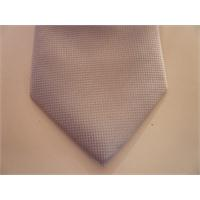tie: (32, 26, 166, 163)
